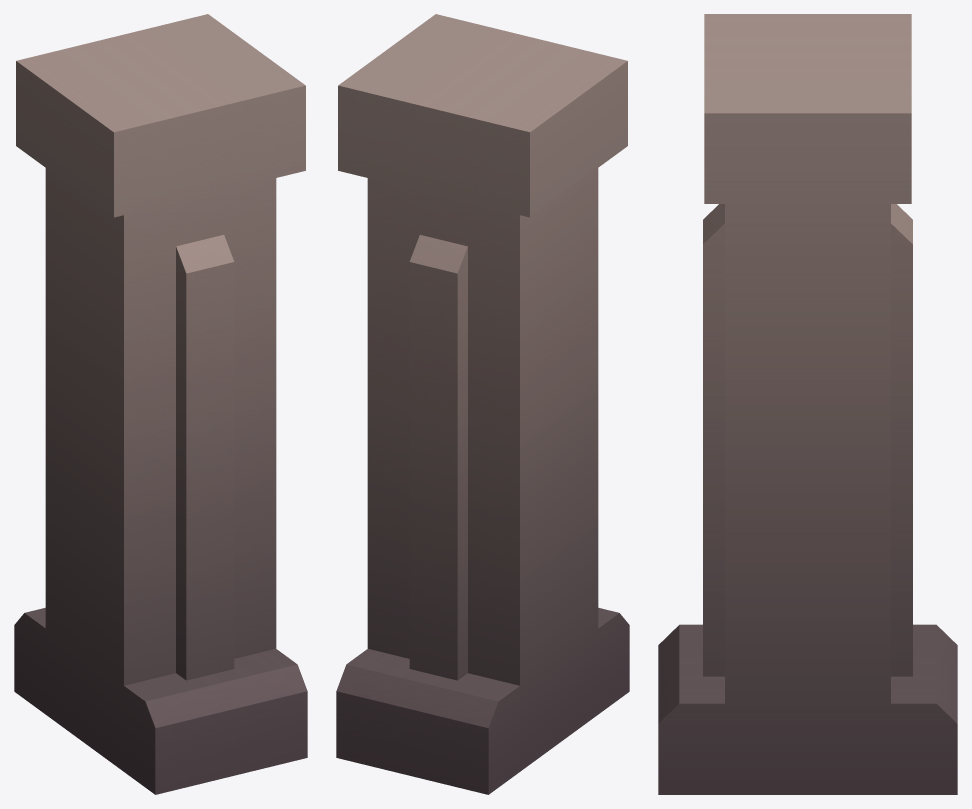
The model's file is fenceAPillar1.glb.
3 renders of one model, left to right at view 1: azimuth 30°, elevation 25°; view 2: azimuth 150°, elevation 25°; view 3: azimuth 270°, elevation 25°, orthographic. The views are drawn at different scales.
Visible parts, largest first — view 1: fenceAPillar1; view 2: fenceAPillar1; view 3: fenceAPillar1.
Part boxes in pixels (x1,y1,x2,y2): fenceAPillar1: (14,14,307,794); fenceAPillar1: (336,14,629,794); fenceAPillar1: (658,14,957,794).
Size of the model in its own units: 0.6407 by 2.08 by 0.8154.
1 material, 1 textured.
